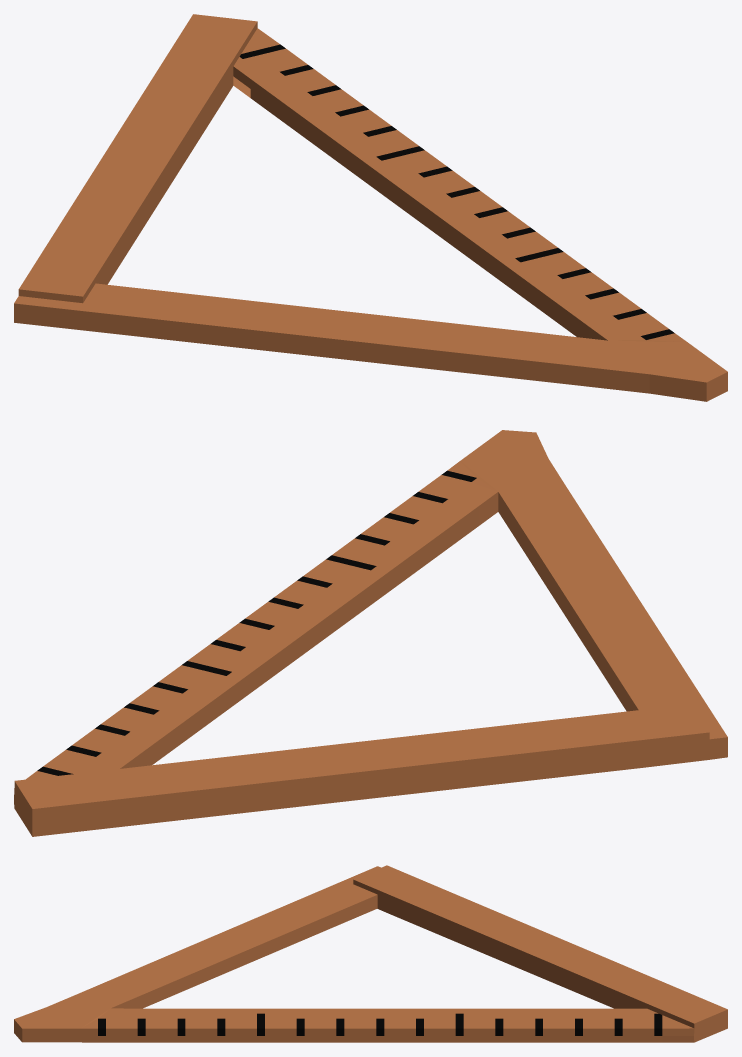
The model's file is ruler02.obj.
3 views of the same model, one above another, from view 1: azimuth 30°, elevation 25°; view 2: azimuth 150°, elevation 25°; view 3: azimuth 270°, elevation 25° (orthographic). The views are drawn at different scales.
Visible parts, largest first — view 1: Cube_Cube.002; view 2: Cube_Cube.002; view 3: Cube_Cube.002.
Boxes of the visible parts, x1=… form: Cube_Cube.002: x1=14, y1=14, x2=727, y2=401; Cube_Cube.002: x1=14, y1=430, x2=727, y2=836; Cube_Cube.002: x1=14, y1=865, x2=727, y2=1042.
Size of the model in its own units: 0.0968 by 0.00532 by 0.1797.
Materials: 1 (1 with a texture image).
